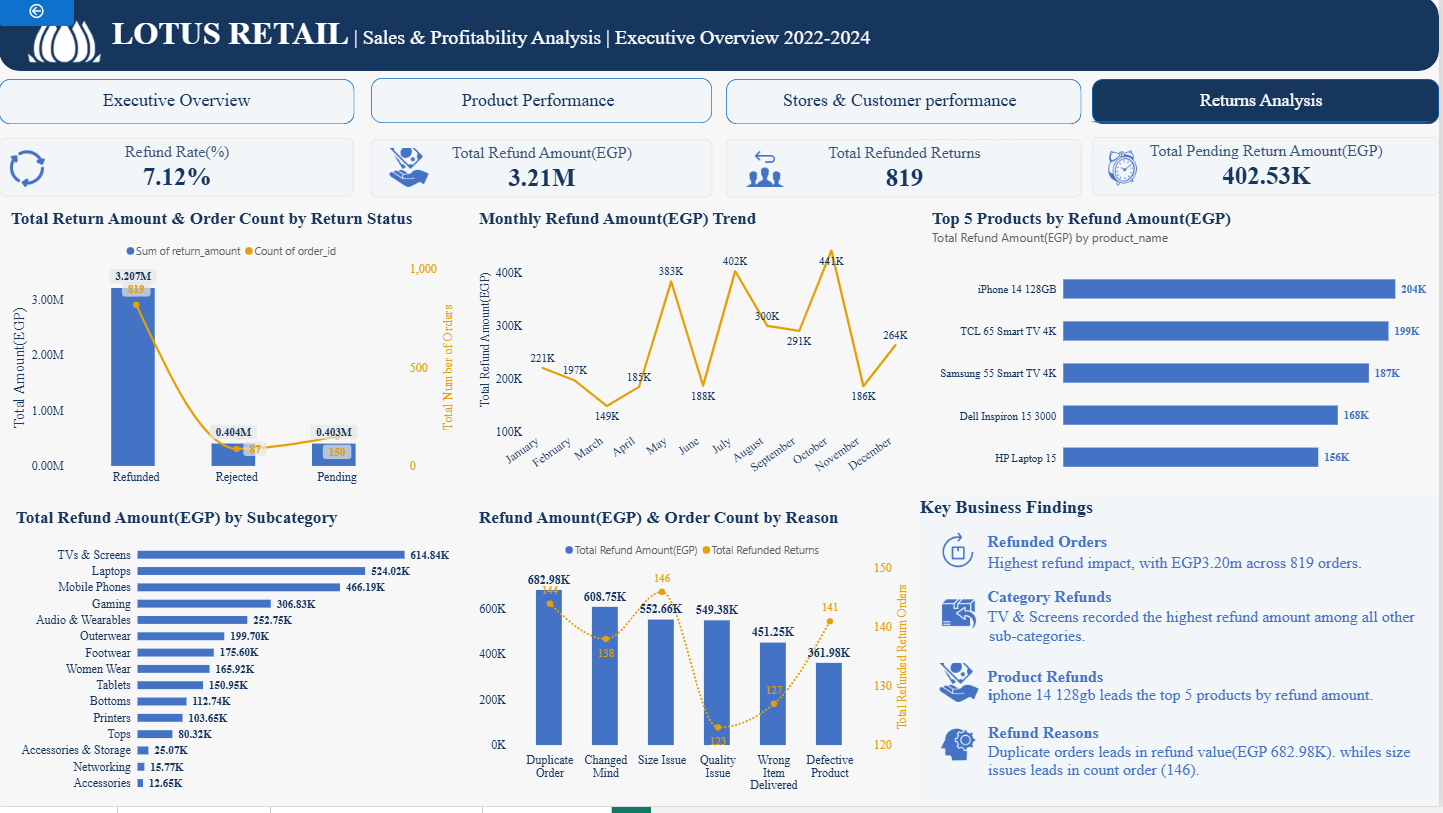

This screenshot's page, from the dashboard's own definition file:
{"tool":"powerbi","page":{"name":" Returns Analysis","canvas":[1920,1080],"ordinal":3},"visuals":[{"type":"shape","box":[0,0,1920,100],"z":0},{"type":"image","box":[9.8,0,156.7,121.7],"z":1000},{"type":"textbox","box":[151.1,25.2,1768.9,74.2],"z":2000},{"type":"shape","box":[0,111,474,60.3],"z":3000},{"type":"shape","box":[495.4,109.2,454.8,60.2],"z":5000},{"type":"shape","box":[969.8,110.6,474,60.3],"z":7000},{"type":"shape","box":[1456.8,110.6,463,60.3],"z":9000},{"type":"cardVisual","fields":{"Data":["Measures (2).Refund Rate(%)"]},"box":[0,189.9,473.4,78],"z":11000},{"type":"cardVisual","fields":{"Data":["Measures (2).Total Refund Amount"]},"box":[495.4,190.3,454.8,78.4],"z":12000},{"type":"image","box":[519.2,202.9,56,52],"z":13000},{"type":"actionButton","box":[0,0,100,40],"z":14000},{"type":"image","box":[9.8,202.9,56,52],"z":15000},{"type":"cardVisual","fields":{"Data":["Measures (2).Total Refunded orders"]},"box":[969.8,190.3,474.4,78.4],"z":16000},{"type":"image","box":[993.6,202.9,56,52],"z":17000},{"type":"cardVisual","fields":{"Data":["Measures (2).Total Pending Return Amount(EGP)"]},"box":[1456.8,187.5,463.2,78.4],"z":18000},{"type":"image","box":[1469.4,202.9,56,52],"z":19000},{"type":"lineClusteredColumnComboChart","title":"Total Return Amount & Order Count by Return Status","fields":{"Category":["Returns.return_status"],"Y":["Sum(Returns.return_amount)"],"Y2":["Count(Returns.order_id)"]},"box":[0,269.3,616,398.7],"z":20000},{"type":"clusteredBarChart","title":"Total Refund Amount(EGP) by Subcategory","fields":{"Category":["Products.subcategory"],"Y":["Measures (2).Total Refund Amount(EGP)"]},"box":[6.9,668.2,610,411.7],"z":21000},{"type":"lineChart","title":"Monthly Refund Amount(EGP) Trend","fields":{"Category":["dim_date.Date Hierarchy.full_date","dim_date.Date Hierarchy.Year","dim_date.Date Hierarchy.month_name","dim_date.Date Hierarchy.quarter_name","dim_date.Date Hierarchy.day_number"],"Y":["Measures (2).Total Refund Amount(EGP)"]},"box":[623.8,268.9,604.4,399.2],"z":22000},{"type":"clusteredBarChart","title":"Top 5 Products by Refund Amount(EGP)","fields":{"Category":["Products.product_name"],"Y":["Measures (2).Total Refund Amount(EGP)"]},"box":[1228.2,268.9,691.8,399.2],"z":23000},{"type":"lineClusteredColumnComboChart","title":"Refund Amount(EGP) & Order Count by Reason","fields":{"Category":["Returns.return_reason"],"Y":["Measures (2).Total Refund Amount(EGP)"],"Y2":["Measures (2).Total Refunded Returns"]},"box":[623.8,668.2,604.4,411.7],"z":27000},{"type":"textbox","box":[1228,668,692,412],"z":28000},{"type":"image","box":[1251.8,798.5,56,52],"z":29000},{"type":"image","box":[1251.8,713.9,56,52],"z":30000},{"type":"image","box":[1251.8,890,56,52],"z":31000},{"type":"image","box":[1250.4,971.8,56,52],"z":32000},{"type":"pageNavigator","box":[0,111.6,1920,57.3],"z":32001}]}

Visuals, with their boxes in screenshot pixels (x1, y1, x2, y2), scaled from the page's 1920x1080 canvas onto the 1443x813 screenshot:
shape: (0,0,1442,75)
image: (7,0,125,92)
textbox: (114,19,1442,75)
shape: (0,84,356,129)
shape: (372,82,714,128)
shape: (729,83,1085,129)
shape: (1095,83,1442,129)
cardVisual - Measures (2).Refund Rate(%): (0,143,356,202)
cardVisual - Measures (2).Total Refund Amount: (372,143,714,202)
image: (390,153,432,192)
actionButton: (0,0,75,30)
image: (7,153,49,192)
cardVisual - Measures (2).Total Refunded orders: (729,143,1085,202)
image: (747,153,789,192)
cardVisual - Measures (2).Total Pending Return Amount(EGP): (1095,141,1442,200)
image: (1104,153,1146,192)
"Total Return Amount & Order Count by Return Status" lineClusteredColumnComboChart: (0,203,463,503)
"Total Refund Amount(EGP) by Subcategory" clusteredBarChart: (5,503,464,812)
"Monthly Refund Amount(EGP) Trend" lineChart: (469,202,923,503)
"Top 5 Products by Refund Amount(EGP)" clusteredBarChart: (923,202,1442,503)
"Refund Amount(EGP) & Order Count by Reason" lineClusteredColumnComboChart: (469,503,923,812)
textbox: (923,503,1442,812)
image: (941,601,983,640)
image: (941,537,983,577)
image: (941,670,983,709)
image: (940,732,982,771)
pageNavigator: (0,84,1442,127)
